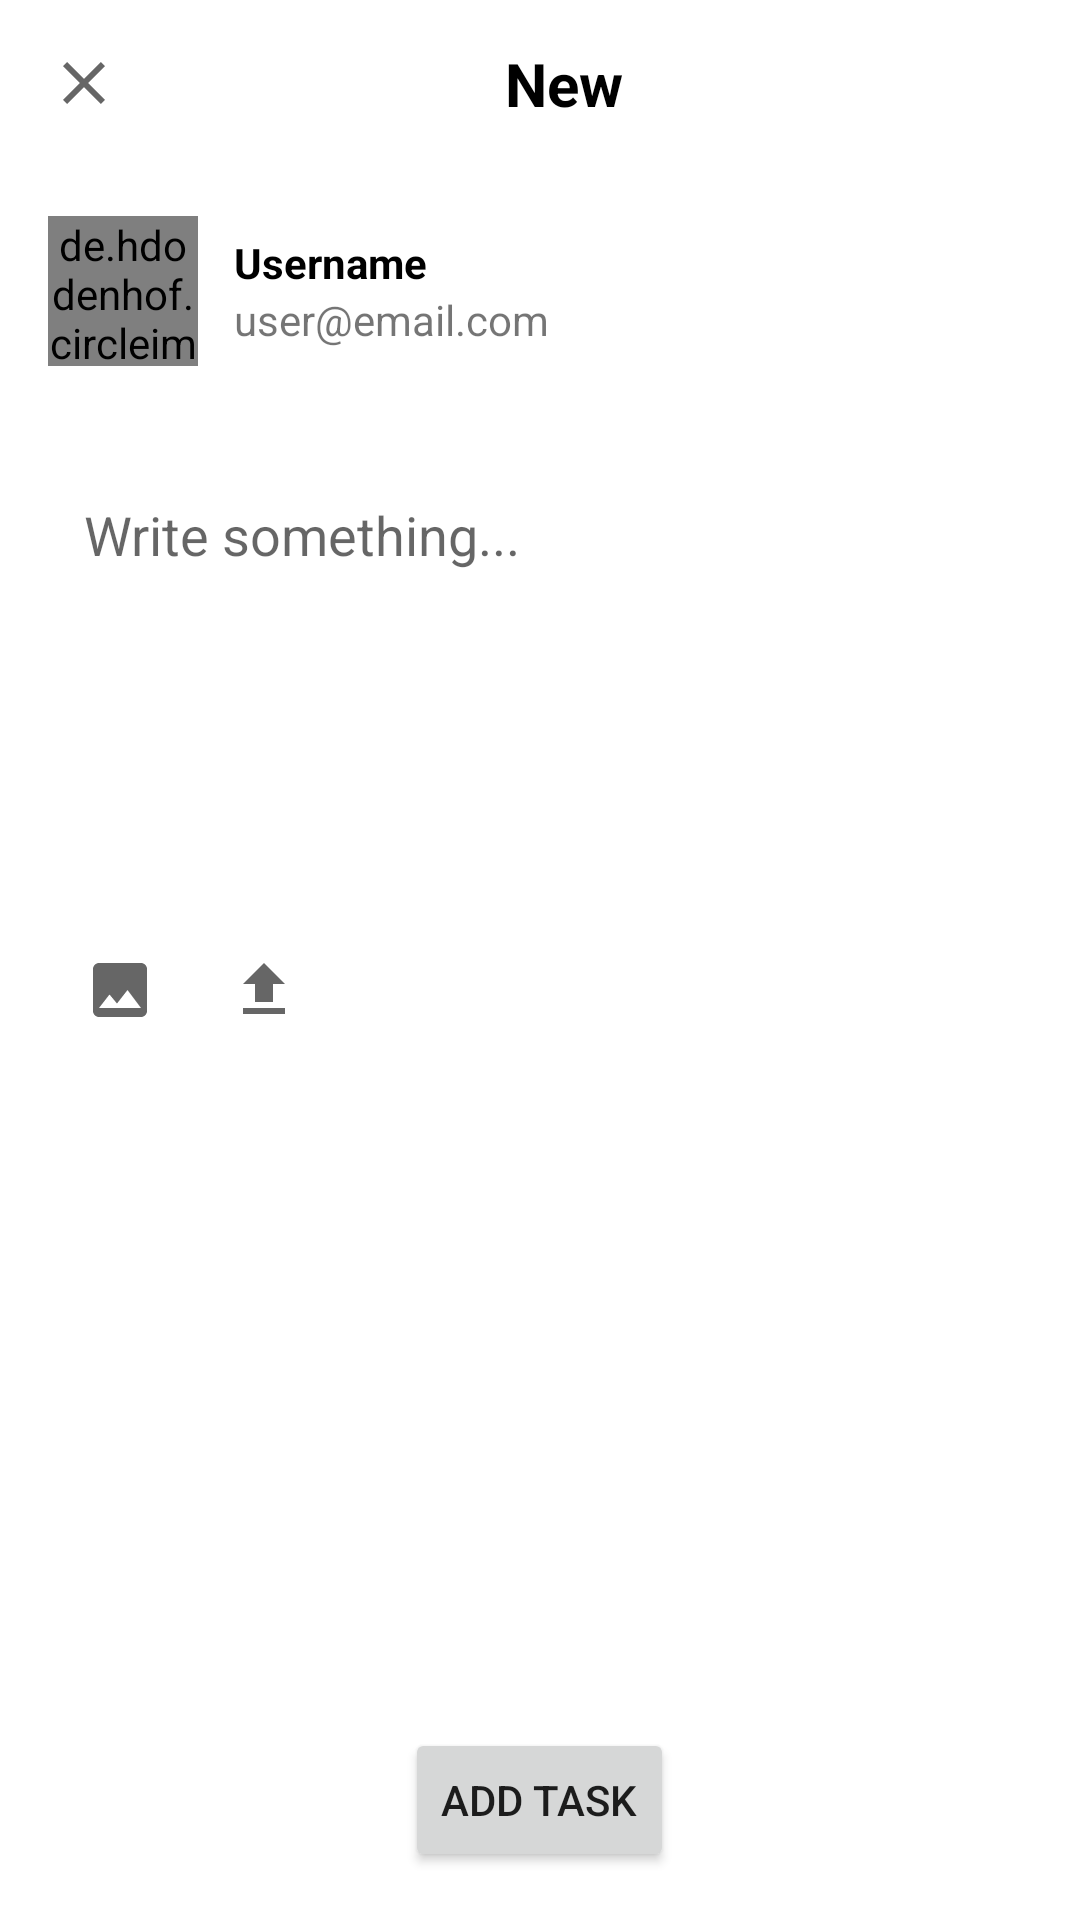

Icon click points for this 1080x1920 phone screenshot, format [x,y]:
close: [84,83]
gallery: [120,990]
upload: [264,988]
